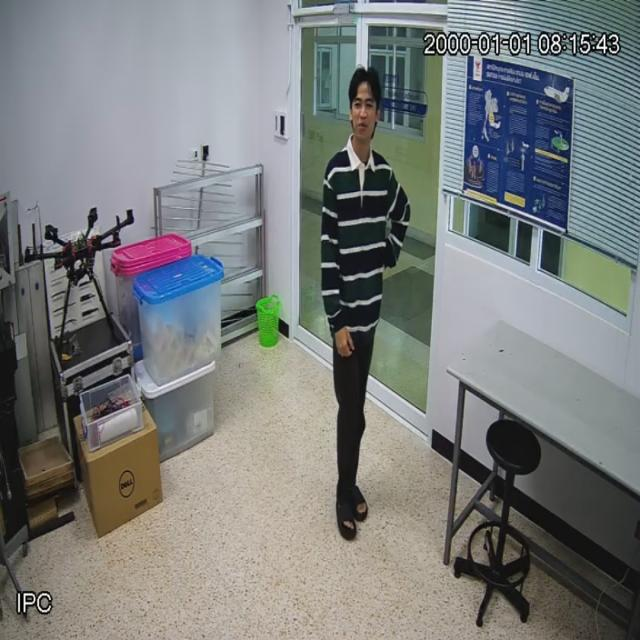normal: (322, 69, 411, 530)
